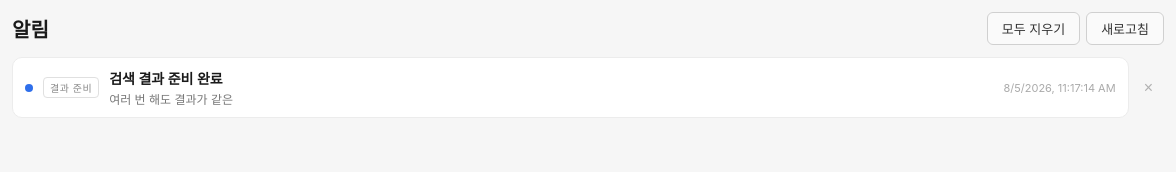
Test case: 알림 목록 › 하나를 지우면 목록에서 빠진다
Expected: the text "검색 결과 준비 완료" is shown, top-left (109, 70), bottom-right (223, 87)
Click the button named "검색 결과 준비 완료 지우기". click: (1148, 88)
box: top-left (1133, 57), bottom-right (1164, 118)
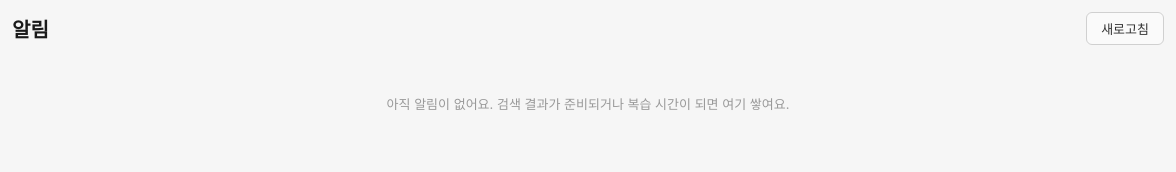
Expected: the button "검색 결과 준비 완료" is gone
